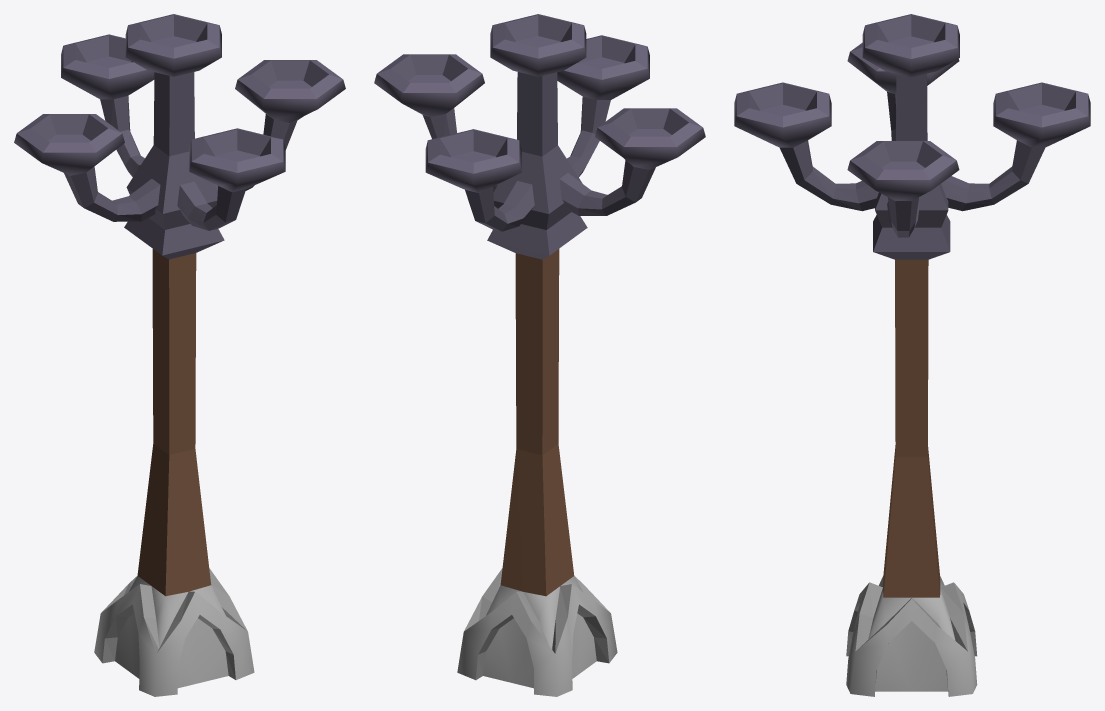
File: CandleStand.FBX
3 renders of one model, left to right at view 1: azimuth 30°, elevation 25°; view 2: azimuth 150°, elevation 25°; view 3: azimuth 270°, elevation 25°, orthographic.
Parts seen in each view (by area): view 1: CandleStand; view 2: CandleStand; view 3: CandleStand.
Boxes of the visible parts, x1,y1,x2,y2 form: CandleStand: [14, 14, 345, 696]; CandleStand: [374, 14, 705, 696]; CandleStand: [734, 14, 1090, 696].
Bounding box in the file's own units: 1.1 × 2.18 × 1.1.
